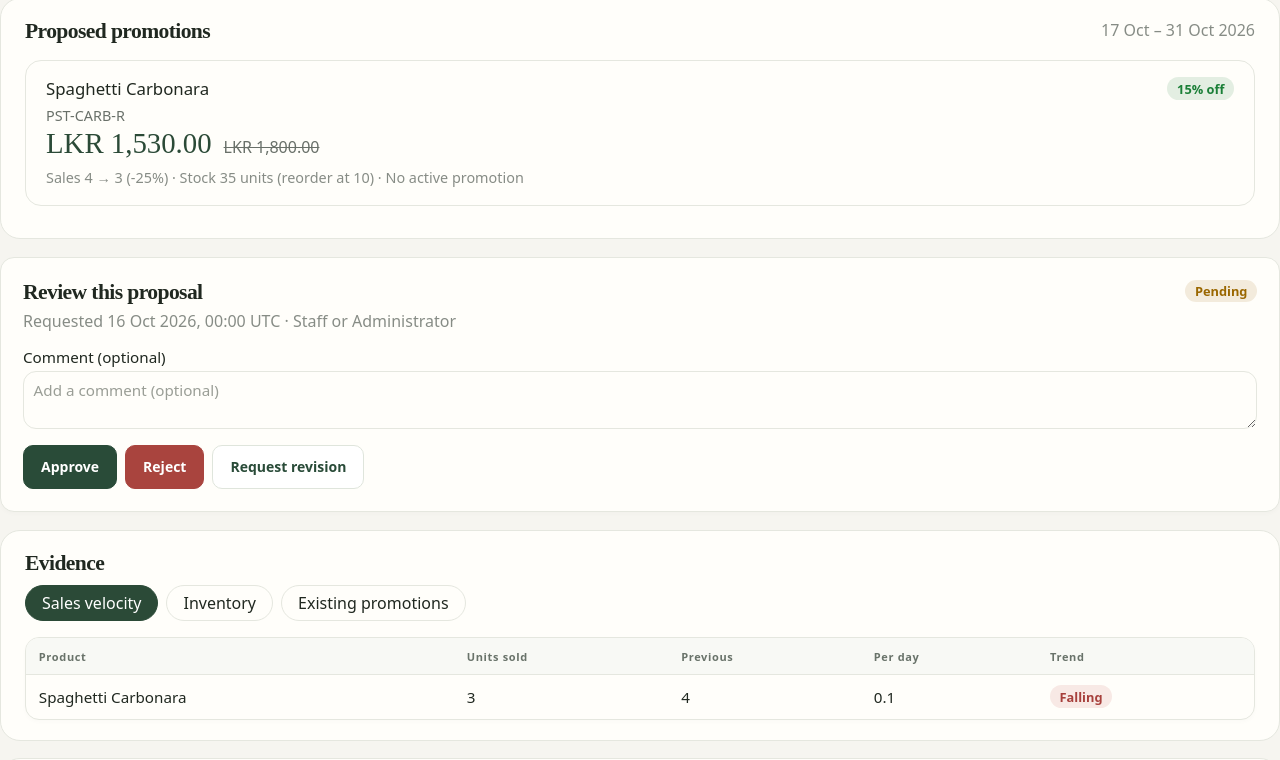
Test: AgentWorkflowDetailPage › approving › lets Staff approve a low-impact proposal and persists the comment
(page scrolled)
Check: the button "Approve" is shown, box [23,445,117,489]
Type "Looks good." into the text box labelled "Comment (optional)" at x=640, y=400, box [23,371,1257,429]
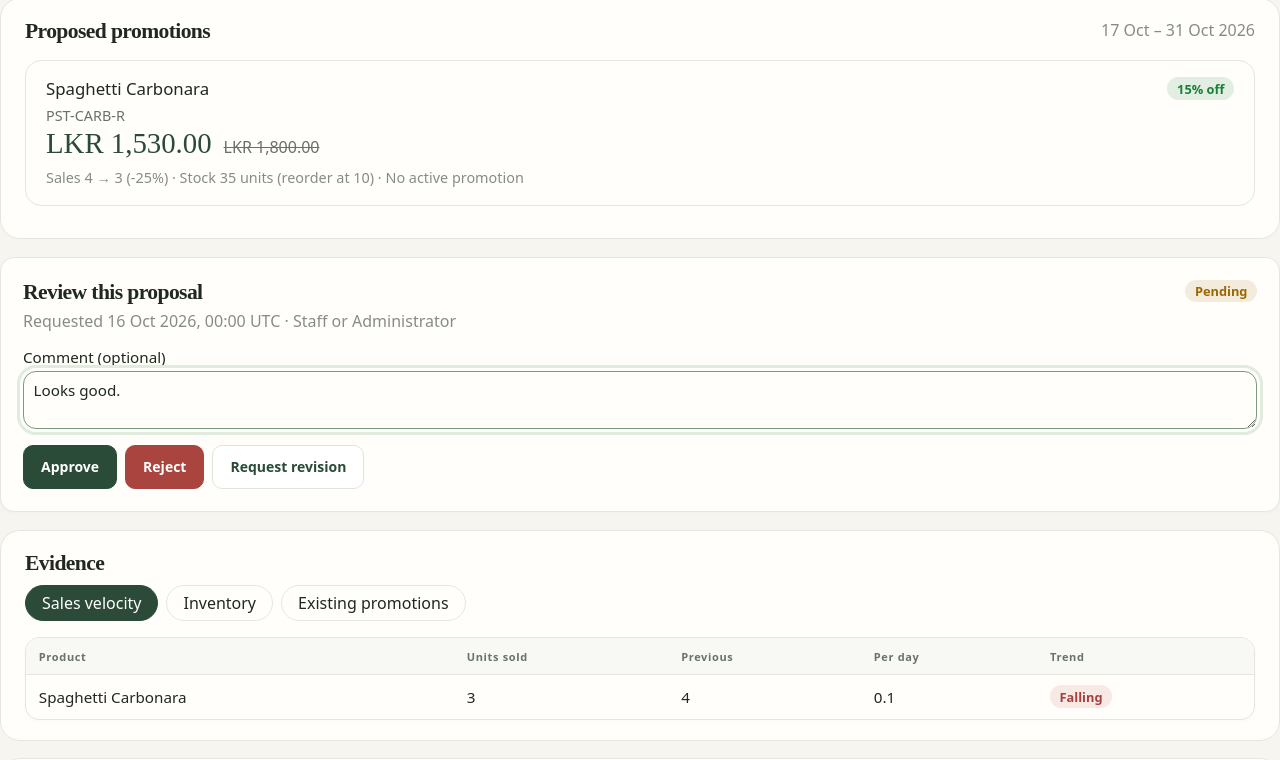
Click the button "Approve" at x=70, y=467, box [23,445,117,489]
(page scrolled)
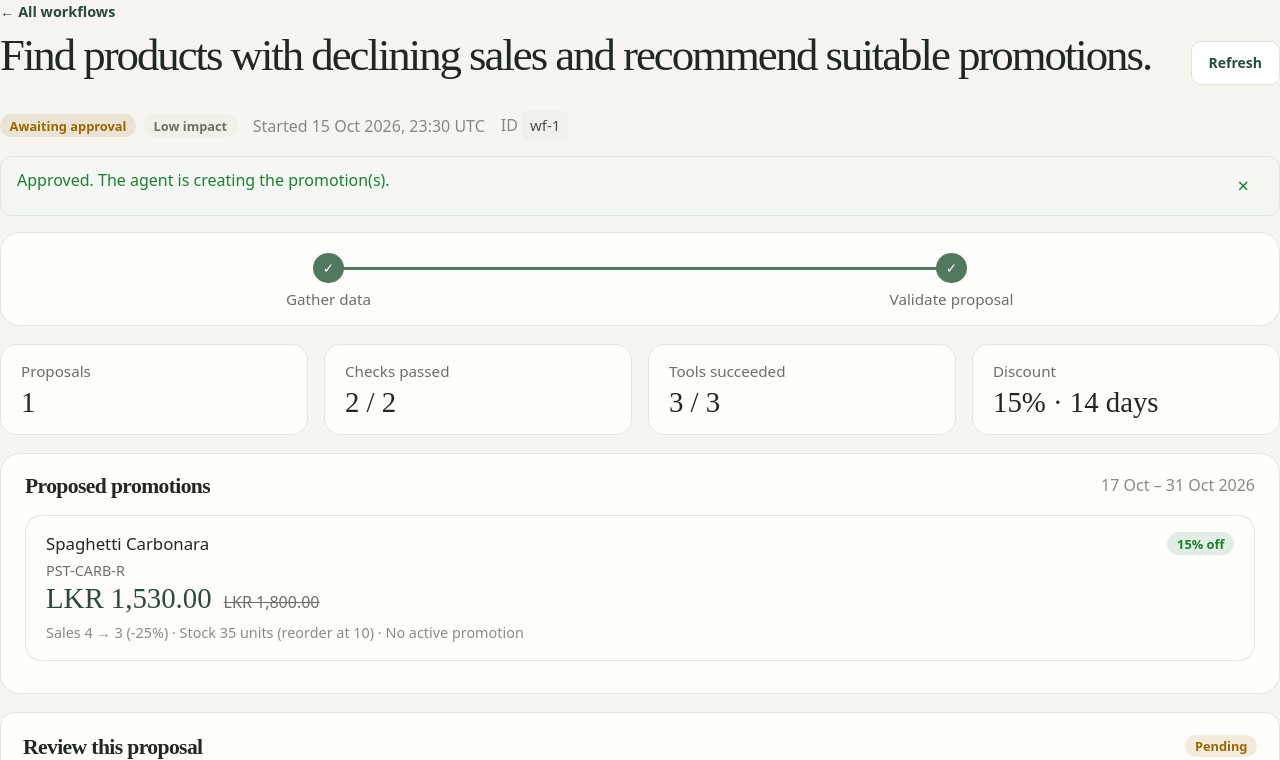
Check: the text "Approved. The agent is creating the promotion(s)." is shown, box [17,169,390,191]
